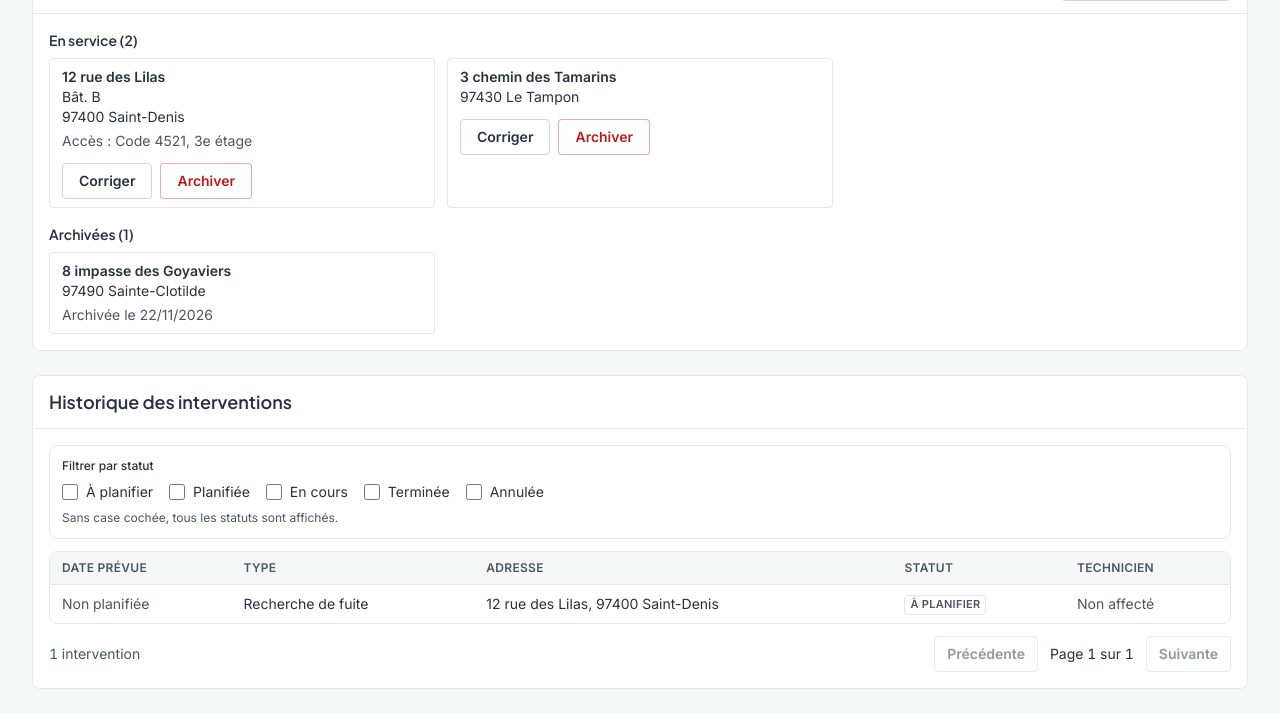
historique des interventions du client (US09) › US09 : distingue un historique vide d’un filtre sans résultat
(page scrolled)
Check: the text "Recherche de fuite" is shown, box [232,585,474,623]
Click the checkbox labelled "Annulée" at (474, 492), box [466,484,482,500]
(page scrolled)
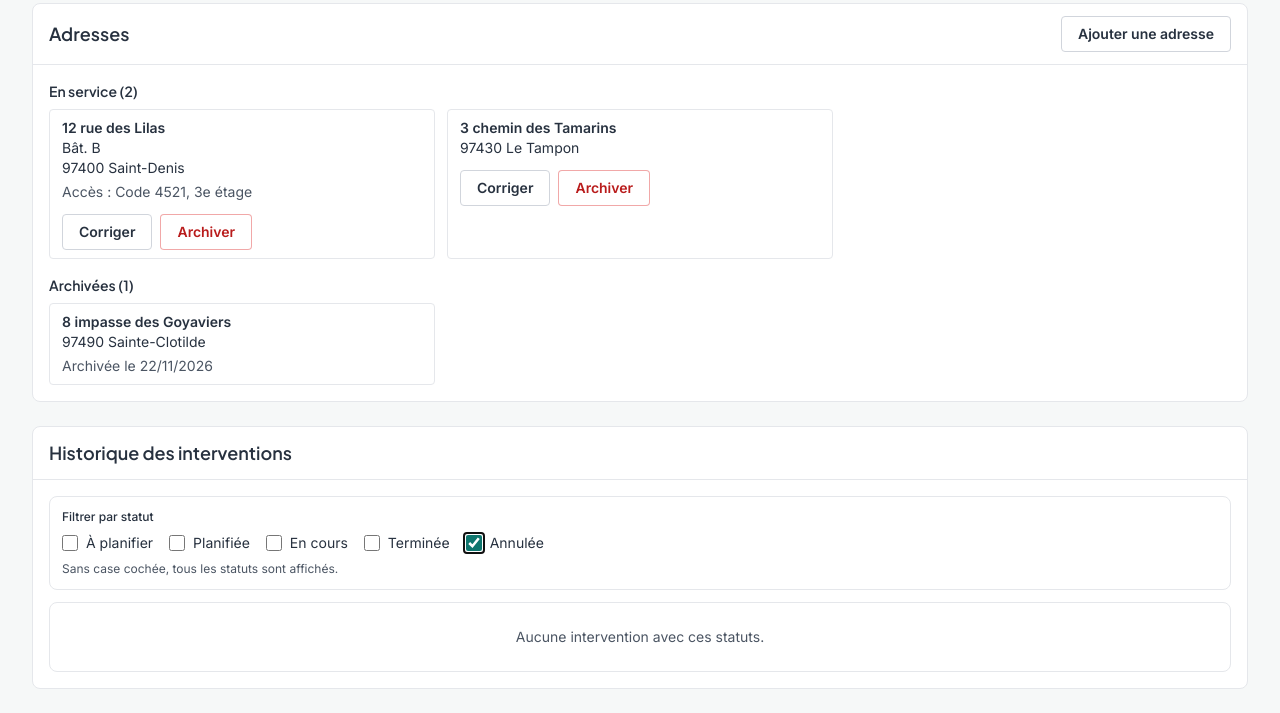
Check: the text "Aucune intervention avec ces statuts." is shown, box [49,602,1231,672]
